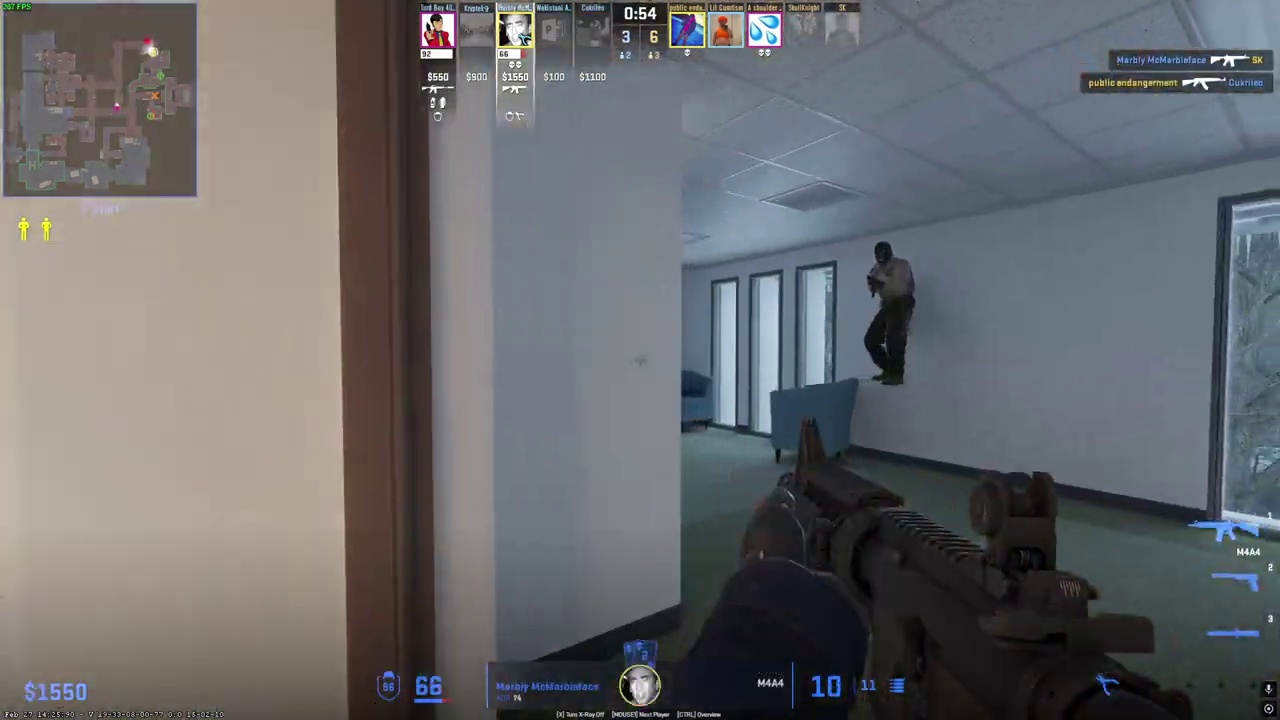Terrorist: (864, 241, 916, 386)
